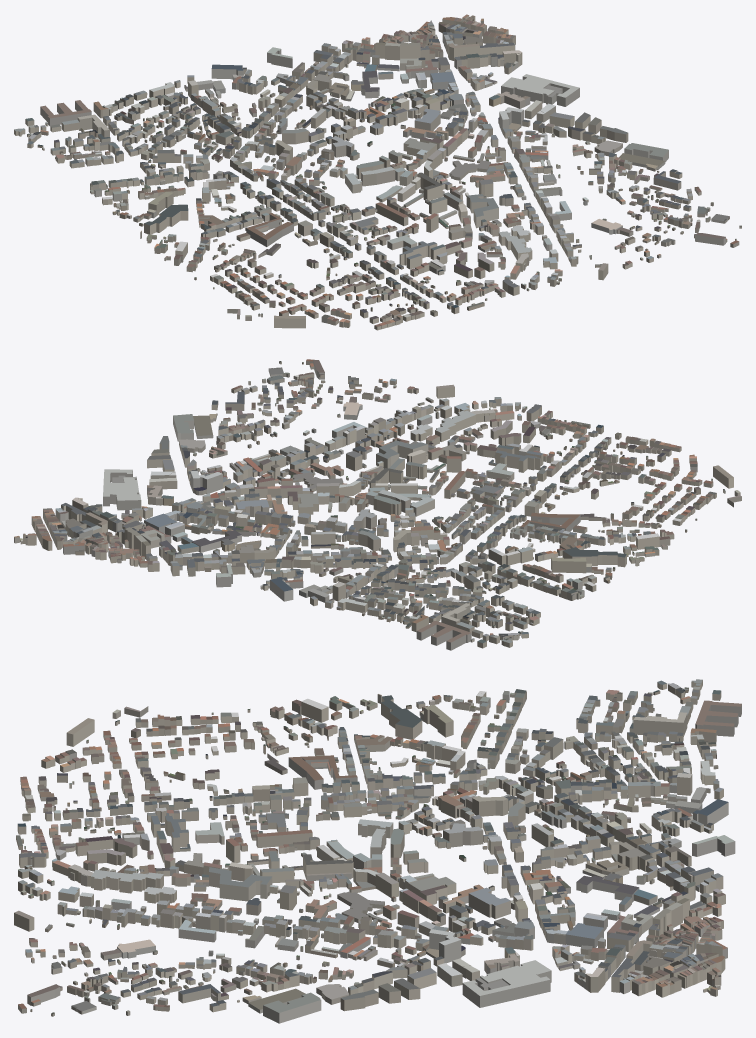
3 views of the same model, one above another, from view 1: azimuth 30°, elevation 25°; view 2: azimuth 150°, elevation 25°; view 3: azimuth 270°, elevation 25° (orthographic). The views are drawn at different scales.
Visible parts, largest first — view 1: tuile; view 2: tuile; view 3: tuile.
Part boxes in pixels (<box>): tuile: <box>14,14,741,330</box>; tuile: <box>14,359,741,650</box>; tuile: <box>14,679,741,1023</box>.
Bounding box in the file's own units: 1038 × 88.97 × 1031.
